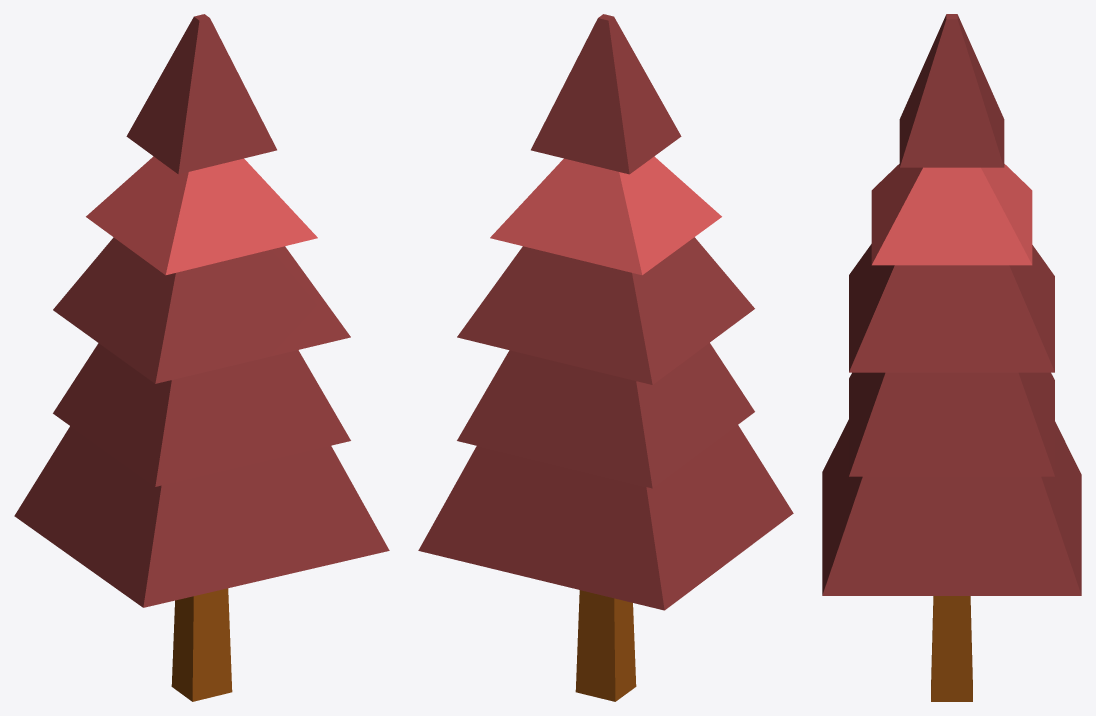
File: Gator Siege_plant2.fbx
3 renders of one model, left to right at view 1: azimuth 30°, elevation 25°; view 2: azimuth 150°, elevation 25°; view 3: azimuth 270°, elevation 25°, orthographic.
Parts seen in each view (by area): view 1: plant2; view 2: plant2; view 3: plant2.
Boxes of the visible parts, x1=… form: plant2: x1=14, y1=14, x2=389, y2=701; plant2: x1=418, y1=14, x2=793, y2=701; plant2: x1=822, y1=14, x2=1081, y2=701.
Size of the model in its own units: 1.68 by 1.53 by 4.38.
